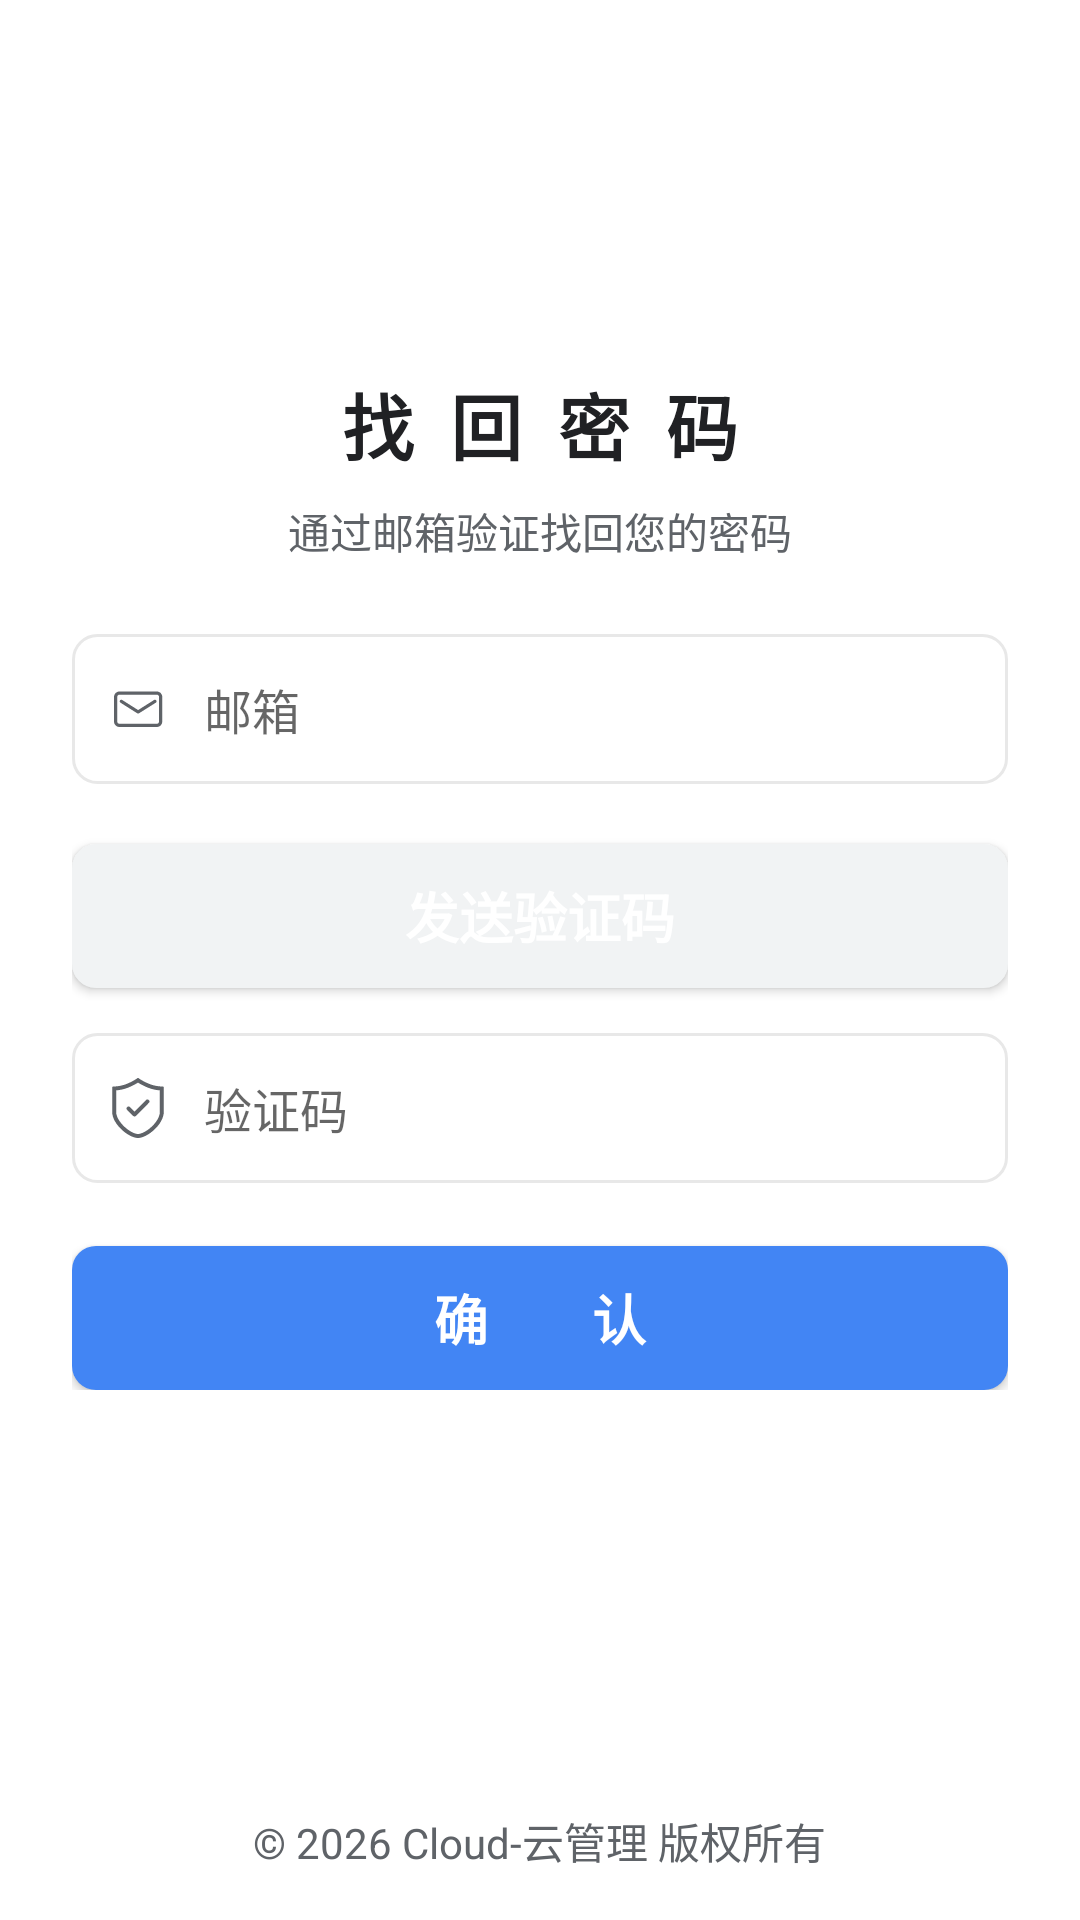

Named icons in this screenshot (1080*1920) and their centers, (x=x, y=y):
email: (x=138, y=709)
verification: (x=138, y=1108)
